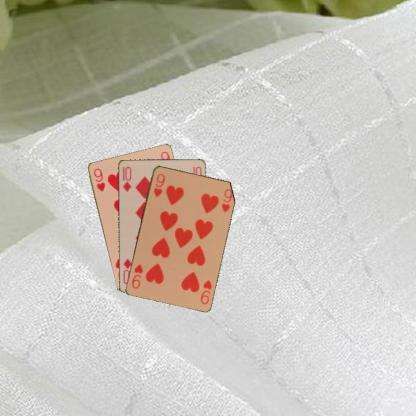10d: (120, 164, 132, 192)
9h: (198, 276, 213, 306), (91, 165, 106, 193), (151, 171, 166, 198)
